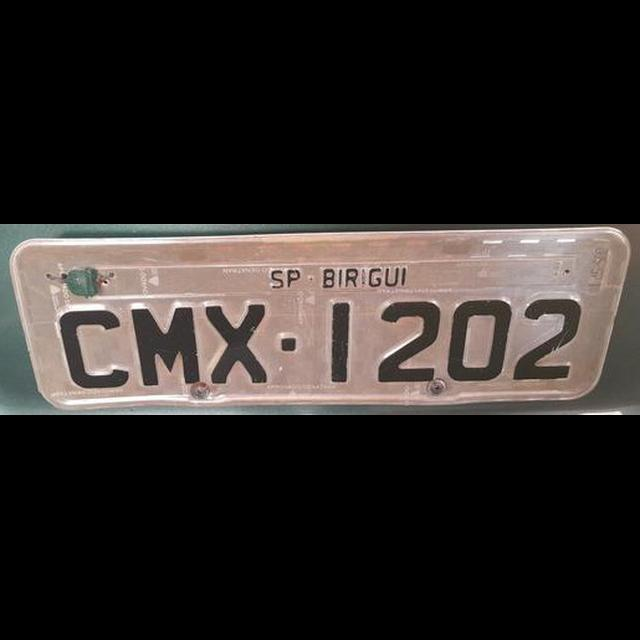Caractere: (506, 293, 584, 383), (128, 297, 202, 388), (56, 304, 132, 388), (442, 296, 514, 384), (202, 298, 270, 386), (375, 298, 441, 384), (326, 297, 354, 385)
Placa: (9, 234, 618, 400)
